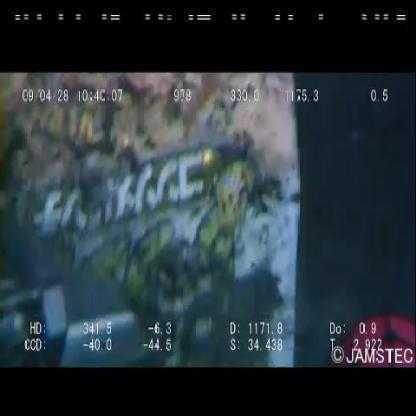Rác: (1, 72, 300, 370)
